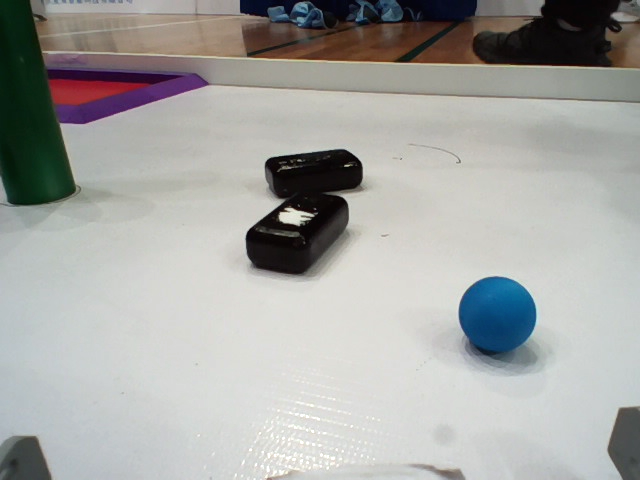black: (246, 197, 384, 288), (243, 153, 403, 200)
blue: (452, 270, 540, 361)
kuang: (1, 47, 227, 145)
zhuzi: (1, 1, 89, 218)
